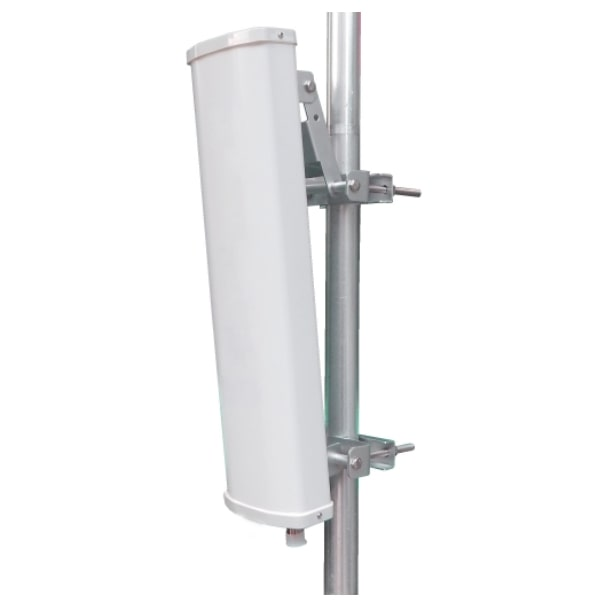sa: (168, 28, 373, 557)
